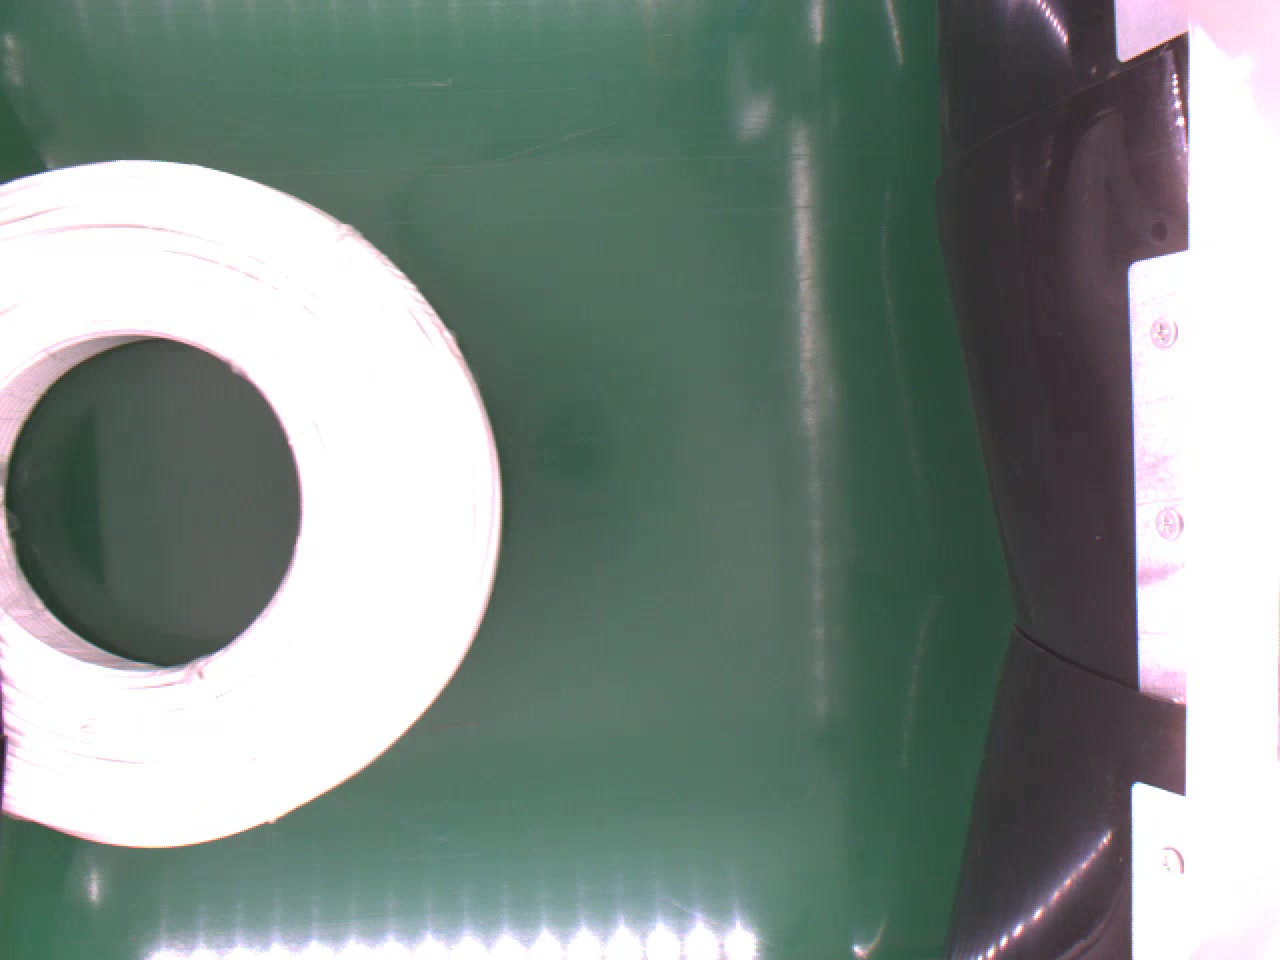white: (0, 155, 506, 852)
